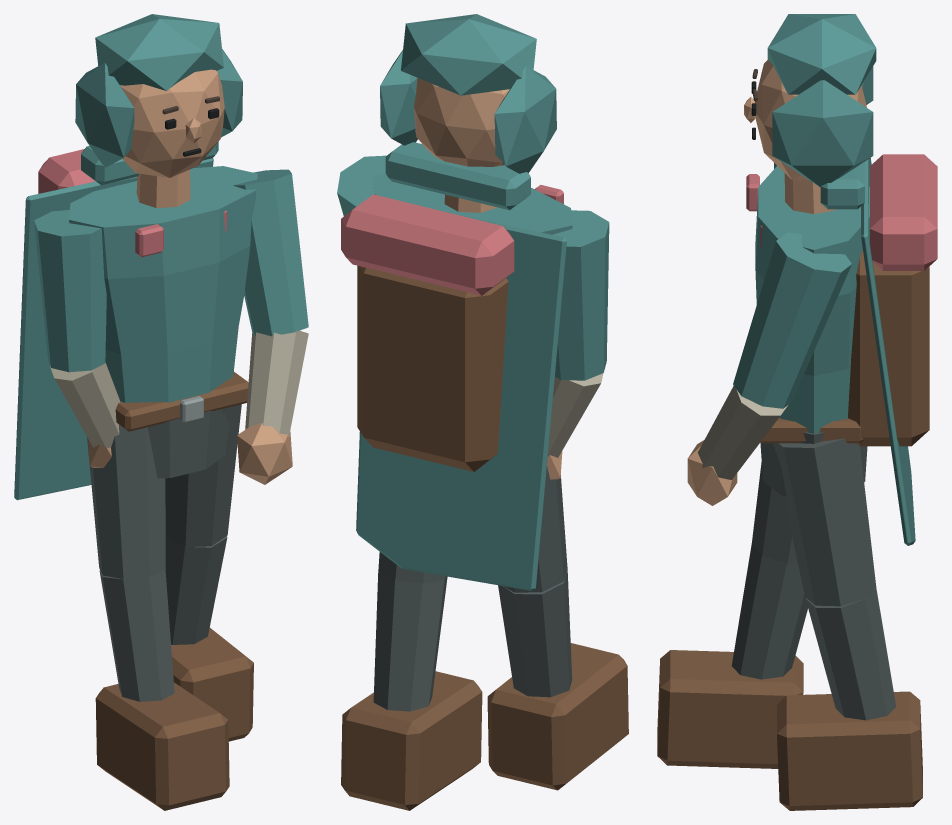
File: npc_refugee_step_l_v01.glb
3 views of the same model, side by side, from view 1: azimuth 30°, elevation 25°; view 2: azimuth 150°, elevation 25°; view 3: azimuth 270°, elevation 25° (orthographic). The views are drawn at different scales.
Visible parts, largest first — view 1: GEO_npc_refugee_step_l_v01; view 2: GEO_npc_refugee_step_l_v01; view 3: GEO_npc_refugee_step_l_v01.
Boxes of the visible parts, <box> form: GEO_npc_refugee_step_l_v01: <box>14,14,308,810</box>; GEO_npc_refugee_step_l_v01: <box>337,14,628,810</box>; GEO_npc_refugee_step_l_v01: <box>657,14,937,810</box>.
Size of the model in its own units: 0.76 by 2.1 by 0.7034.
